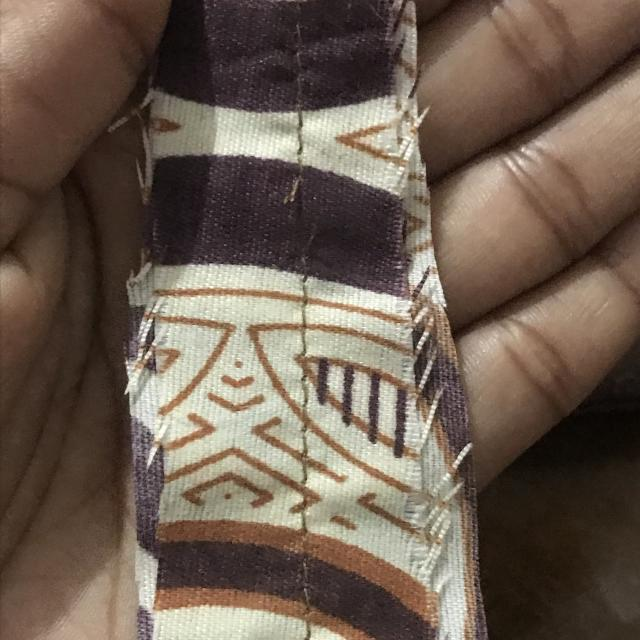broken: (278, 164, 324, 281)
good: (276, 368, 330, 520)
